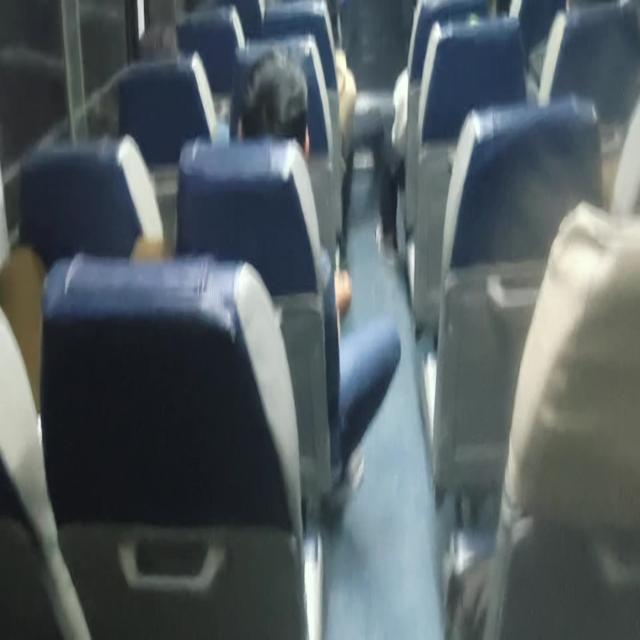person: (453, 95, 639, 637), (230, 46, 402, 520), (234, 46, 352, 318), (238, 46, 310, 156)
